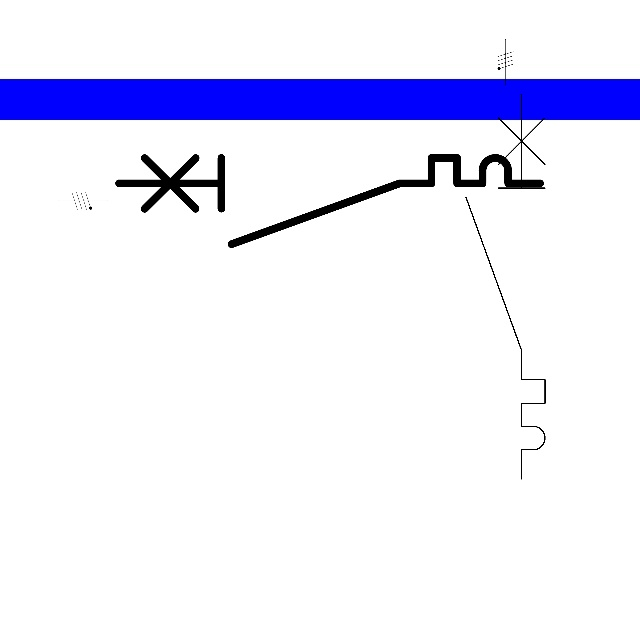interruptor_termomagnetico: (108, 147, 551, 255), (456, 84, 555, 488)
